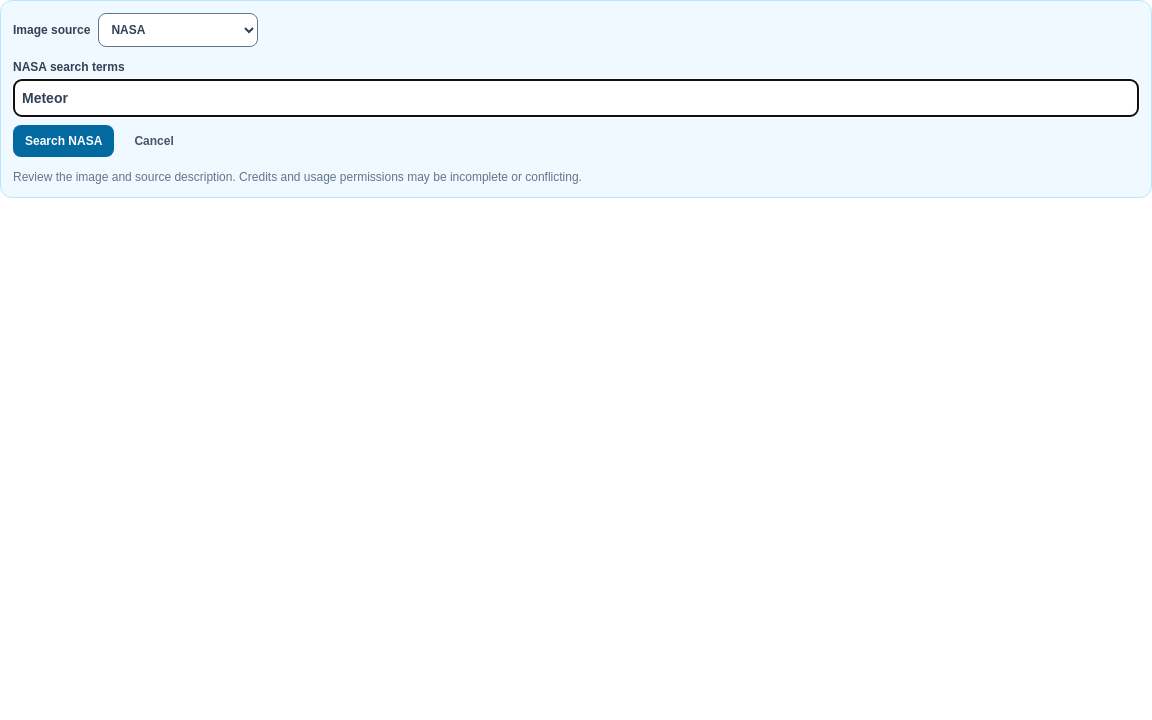
Test: unavailable Commons results › explains a search with no usable result and shows why
The width and height of the screenshot is (1152, 720).
Select "Wikimedia Commons" in the dropdown labelled "Image source" at point(178, 30), box [98, 13, 258, 47]
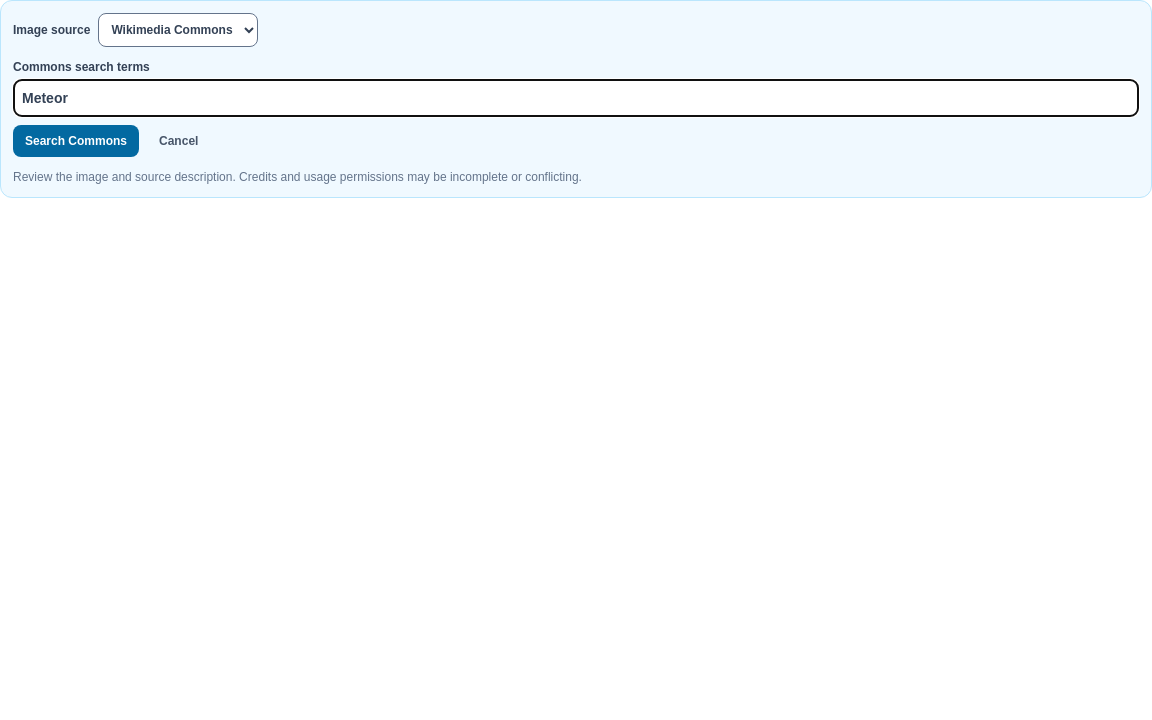
Click the button "Search Commons" at point(76, 141), box [13, 125, 139, 157]
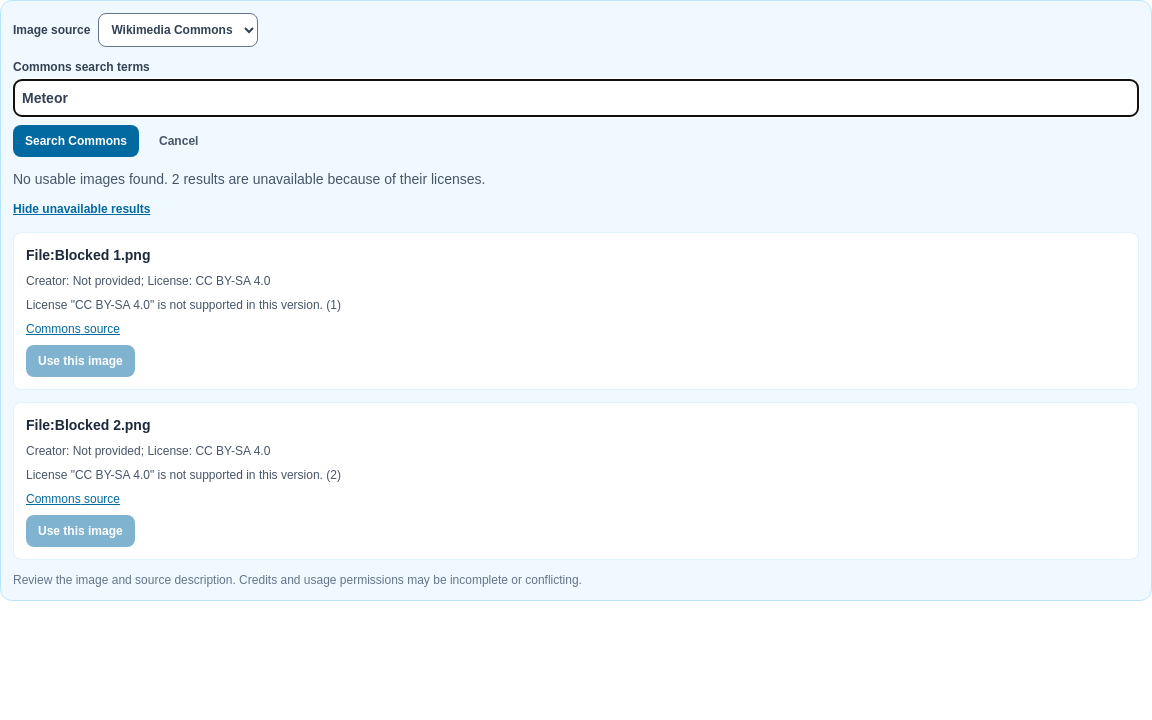
Check: the text "No usable images found. 2 results are unavailable because of their licenses." is shown, box [13, 171, 485, 187]
Click the button "Hide unavailable results" at point(82, 209), box [13, 201, 150, 217]
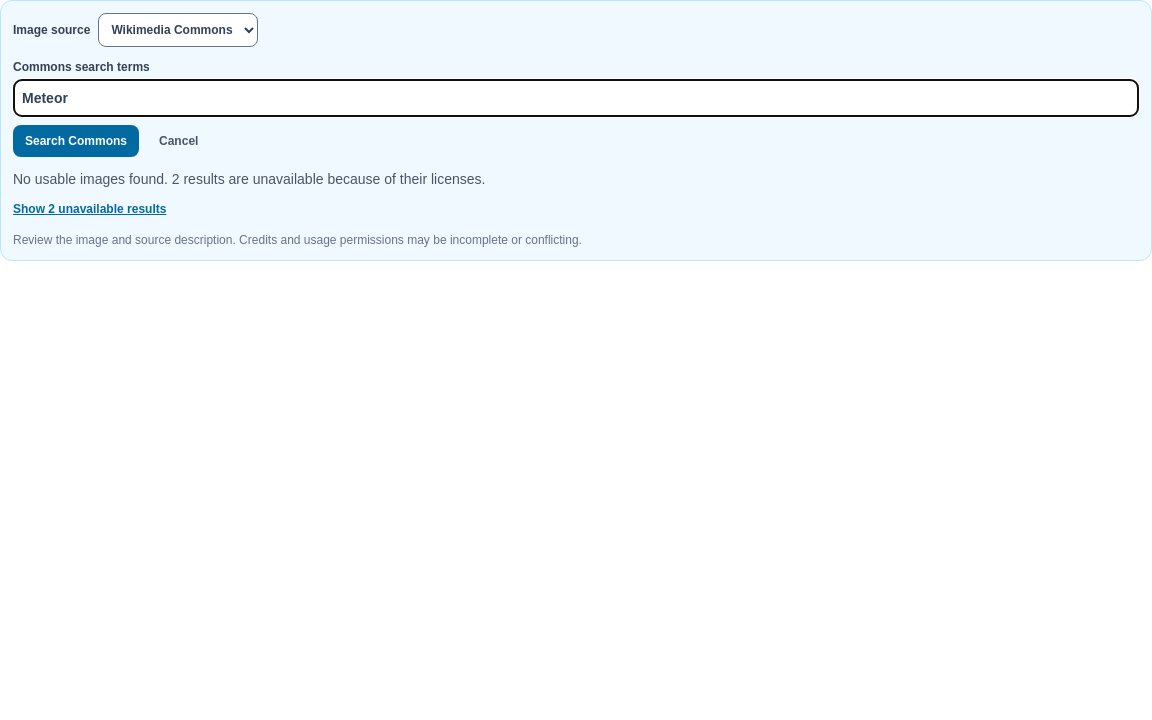
Check: the button "Show 2 unavailable results" is shown, box [13, 201, 166, 217]
